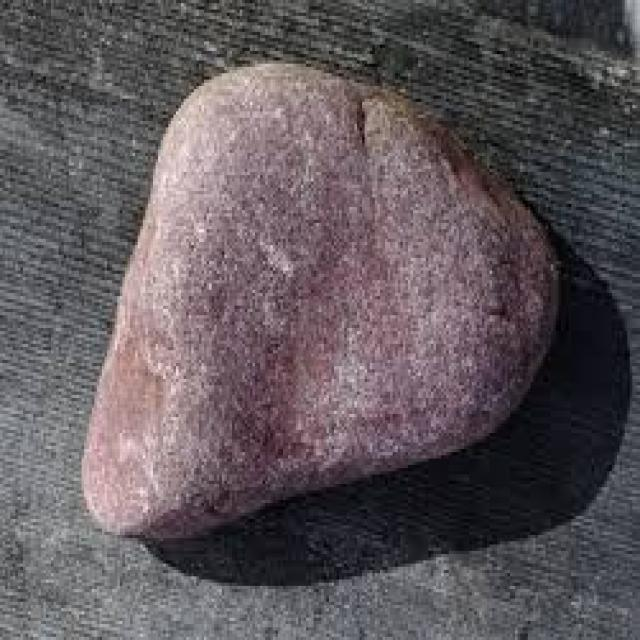Metamorphic: (81, 57, 584, 535)
